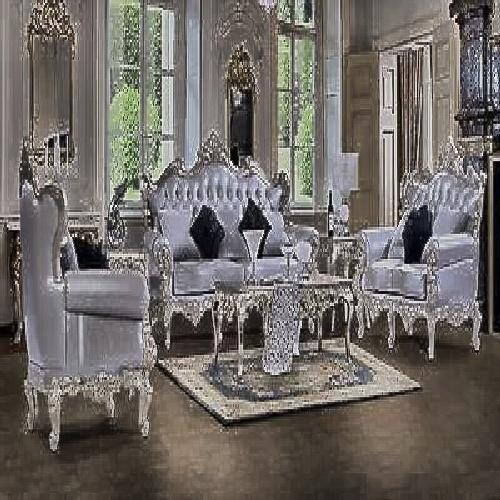table: (214, 277, 359, 362)
